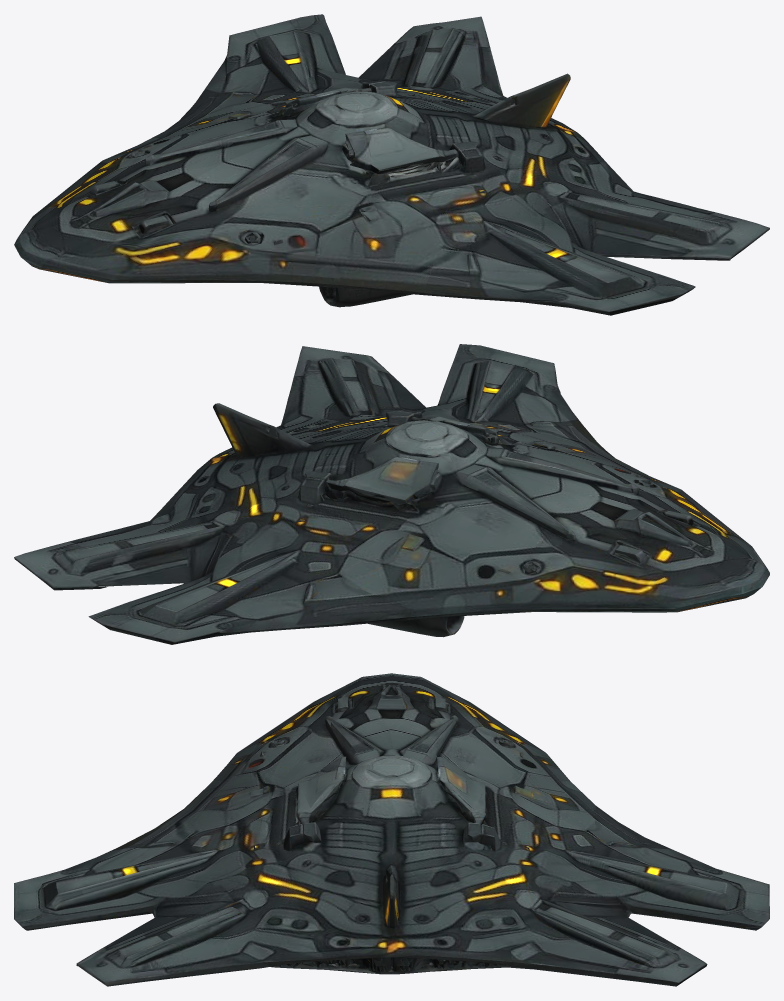
File: enemy-mercury-fighter.glb
3 renders of one model, top to bottom at view 1: azimuth 30°, elevation 25°; view 2: azimuth 150°, elevation 25°; view 3: azimuth 270°, elevation 25°, orthographic.
Size of the model in its own units: 1.75 by 0.3516 by 1.9.
1 material, 1 textured.
